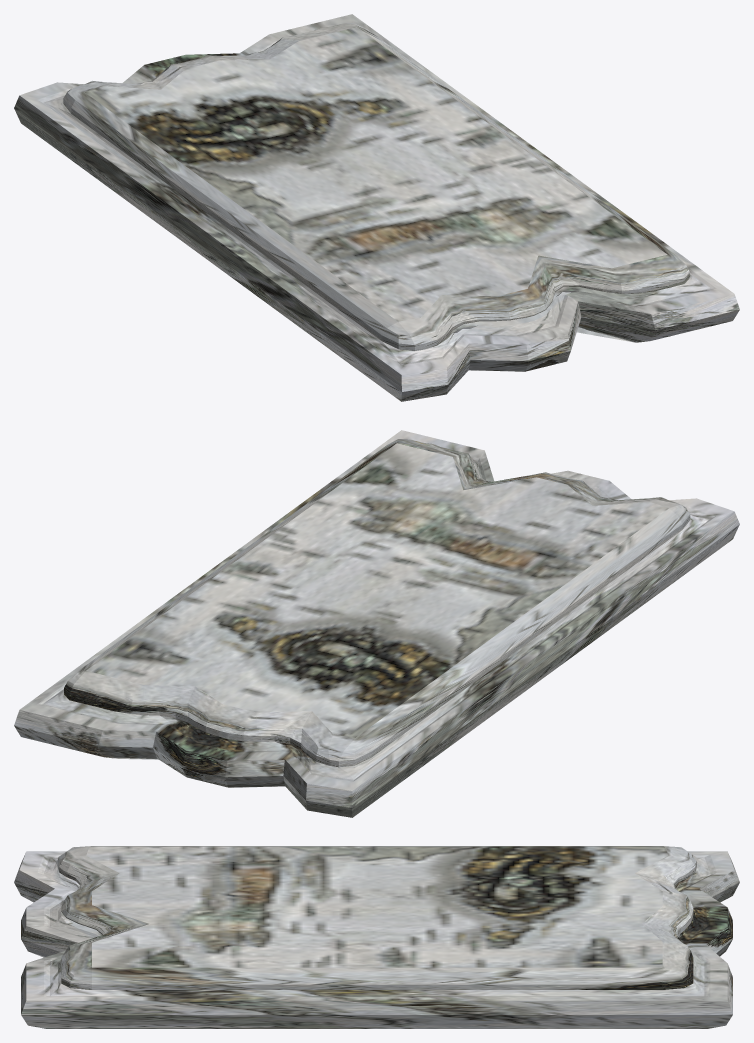
File: Birch_Bark.fbx
3 renders of one model, top to bottom at view 1: azimuth 30°, elevation 25°; view 2: azimuth 150°, elevation 25°; view 3: azimuth 270°, elevation 25°, orthographic. The views are drawn at different scales.
Visible parts, largest first — view 1: Brich_Bark, Brich_Bark.001; view 2: Brich_Bark, Brich_Bark.001; view 3: Brich_Bark, Brich_Bark.001.
Boxes of the visible parts, x1,y1,x2,y2 form: Brich_Bark: [63, 23, 689, 350]; Brich_Bark.001: [14, 14, 739, 401]; Brich_Bark: [64, 439, 690, 767]; Brich_Bark.001: [14, 430, 739, 817]; Brich_Bark: [57, 846, 696, 989]; Brich_Bark.001: [14, 851, 739, 1028].
Bounding box in the file's own units: 635 × 100 × 1287.
